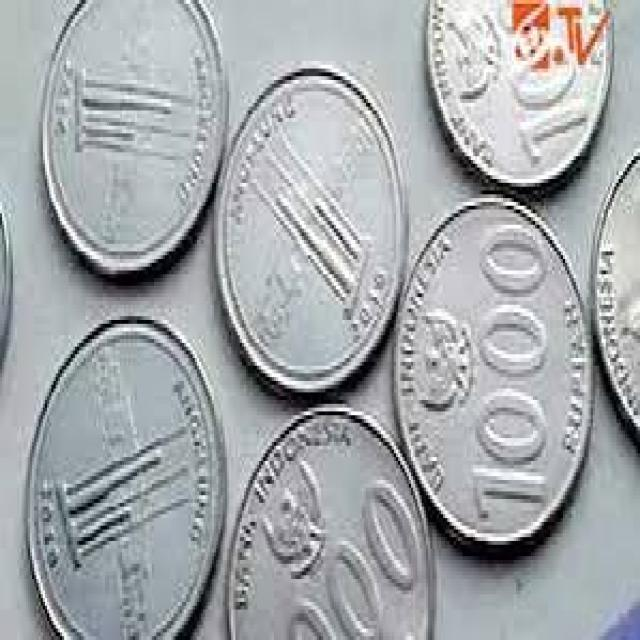coin_1000_e2010: (391, 196, 597, 557), (211, 60, 409, 405), (22, 312, 223, 640), (38, 0, 233, 275), (216, 398, 436, 640)
